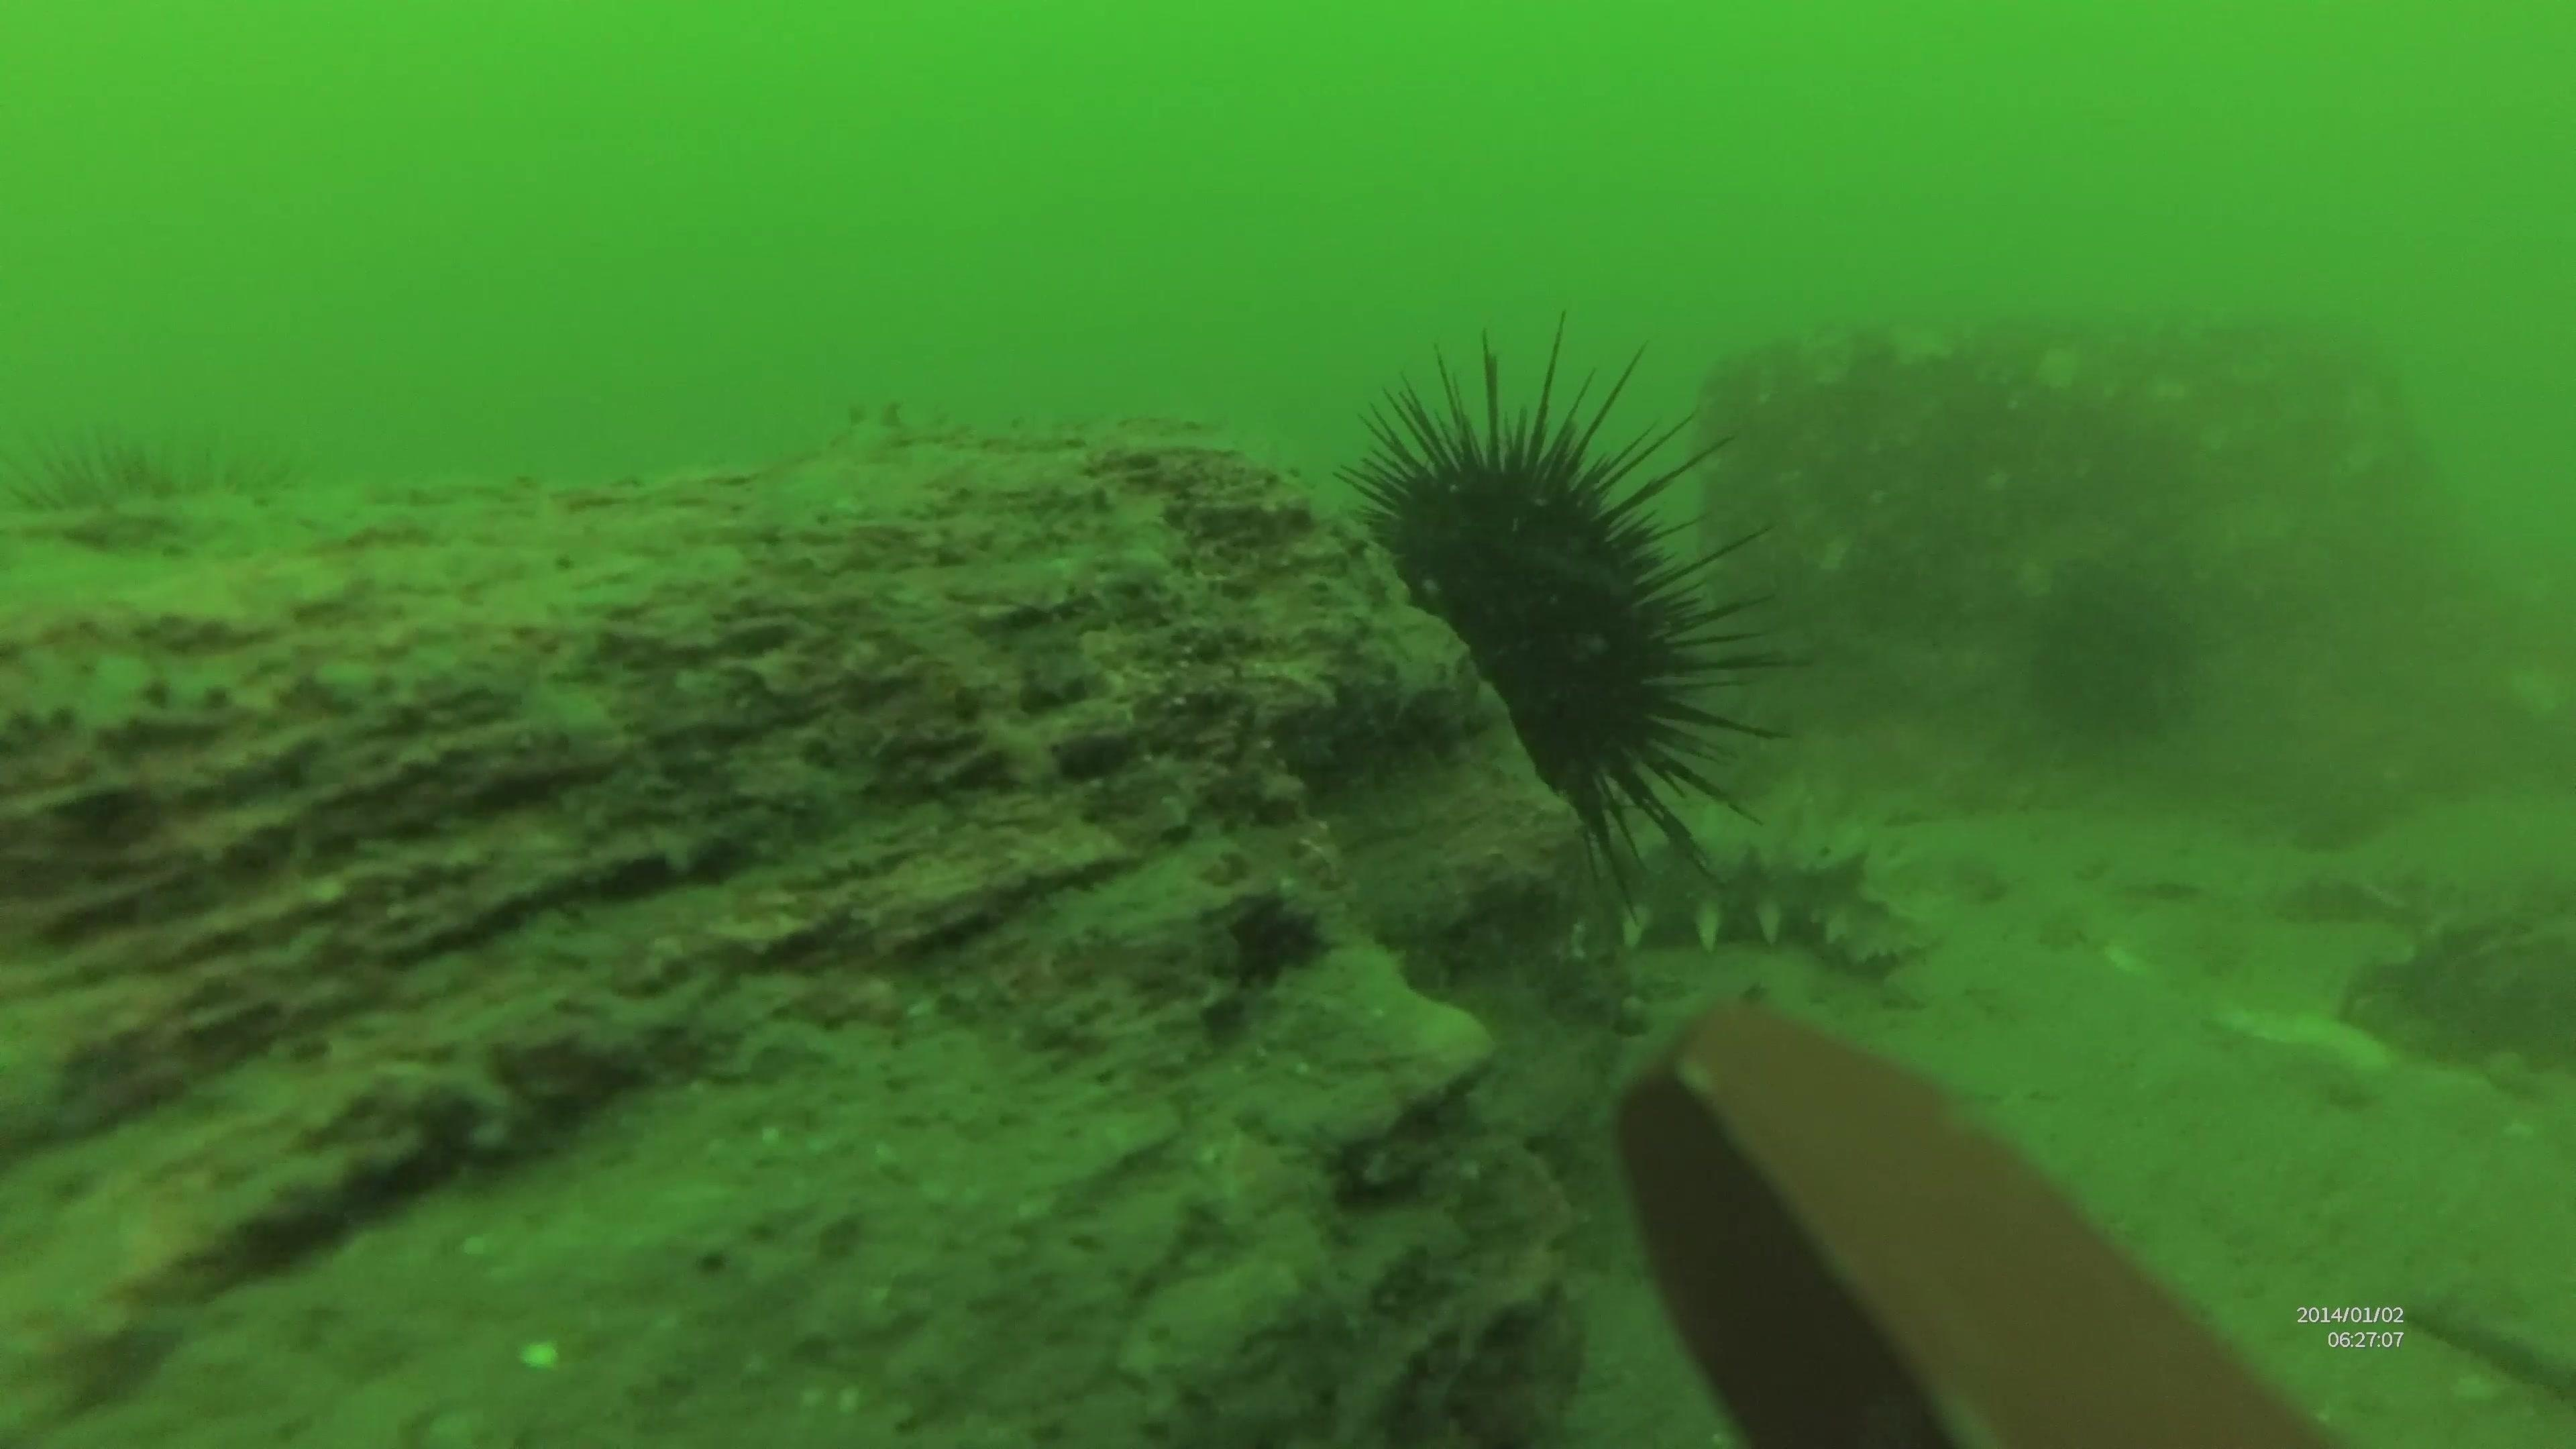echinus: (1329, 326, 1799, 867), (2013, 556, 2210, 755), (4, 416, 292, 543)
holothurian: (1582, 823, 1943, 985)
